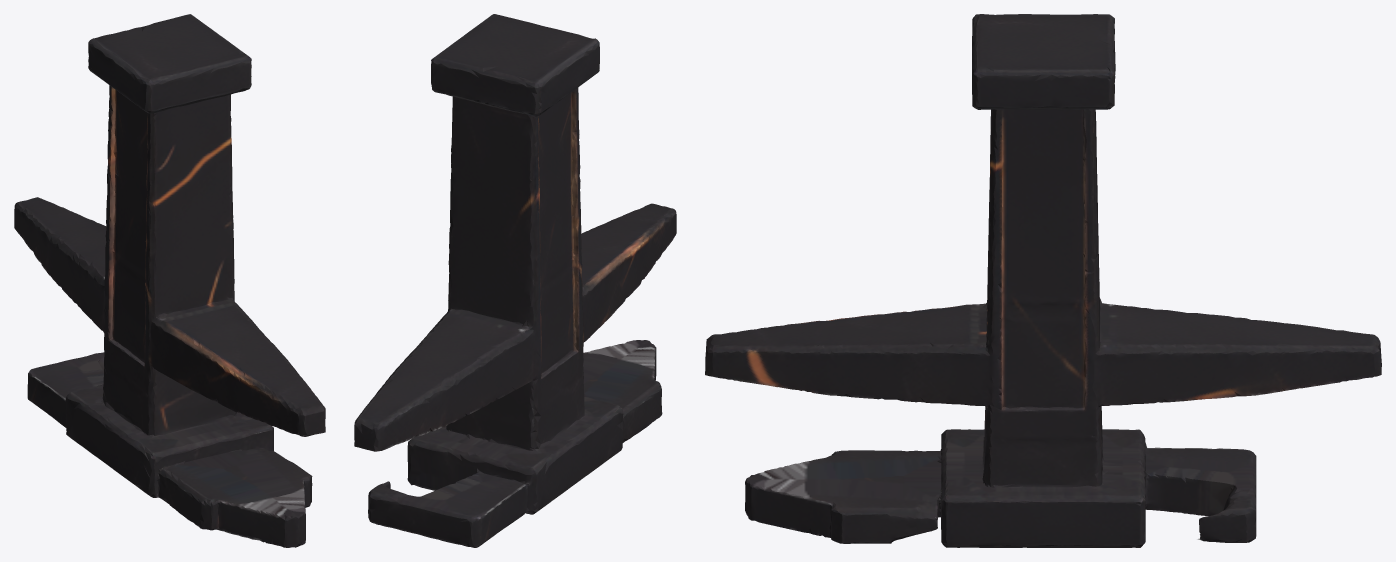
The model's file is rodin_Forge_Column2_raw.glb.
3 views of the same model, side by side, from view 1: azimuth 30°, elevation 25°; view 2: azimuth 150°, elevation 25°; view 3: azimuth 270°, elevation 25° (orthographic). The views are drawn at different scales.
Parts seen in each view (by area): view 1: model; view 2: model; view 3: model.
Part boxes in pixels (<box>): model: <box>14,14,325,547</box>; model: <box>354,14,676,547</box>; model: <box>705,14,1381,547</box>.
Size of the model in its own units: 0.4692 by 1.46 by 1.89.
1 material, 1 textured.
